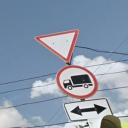preferencia: (34, 27, 81, 66)
